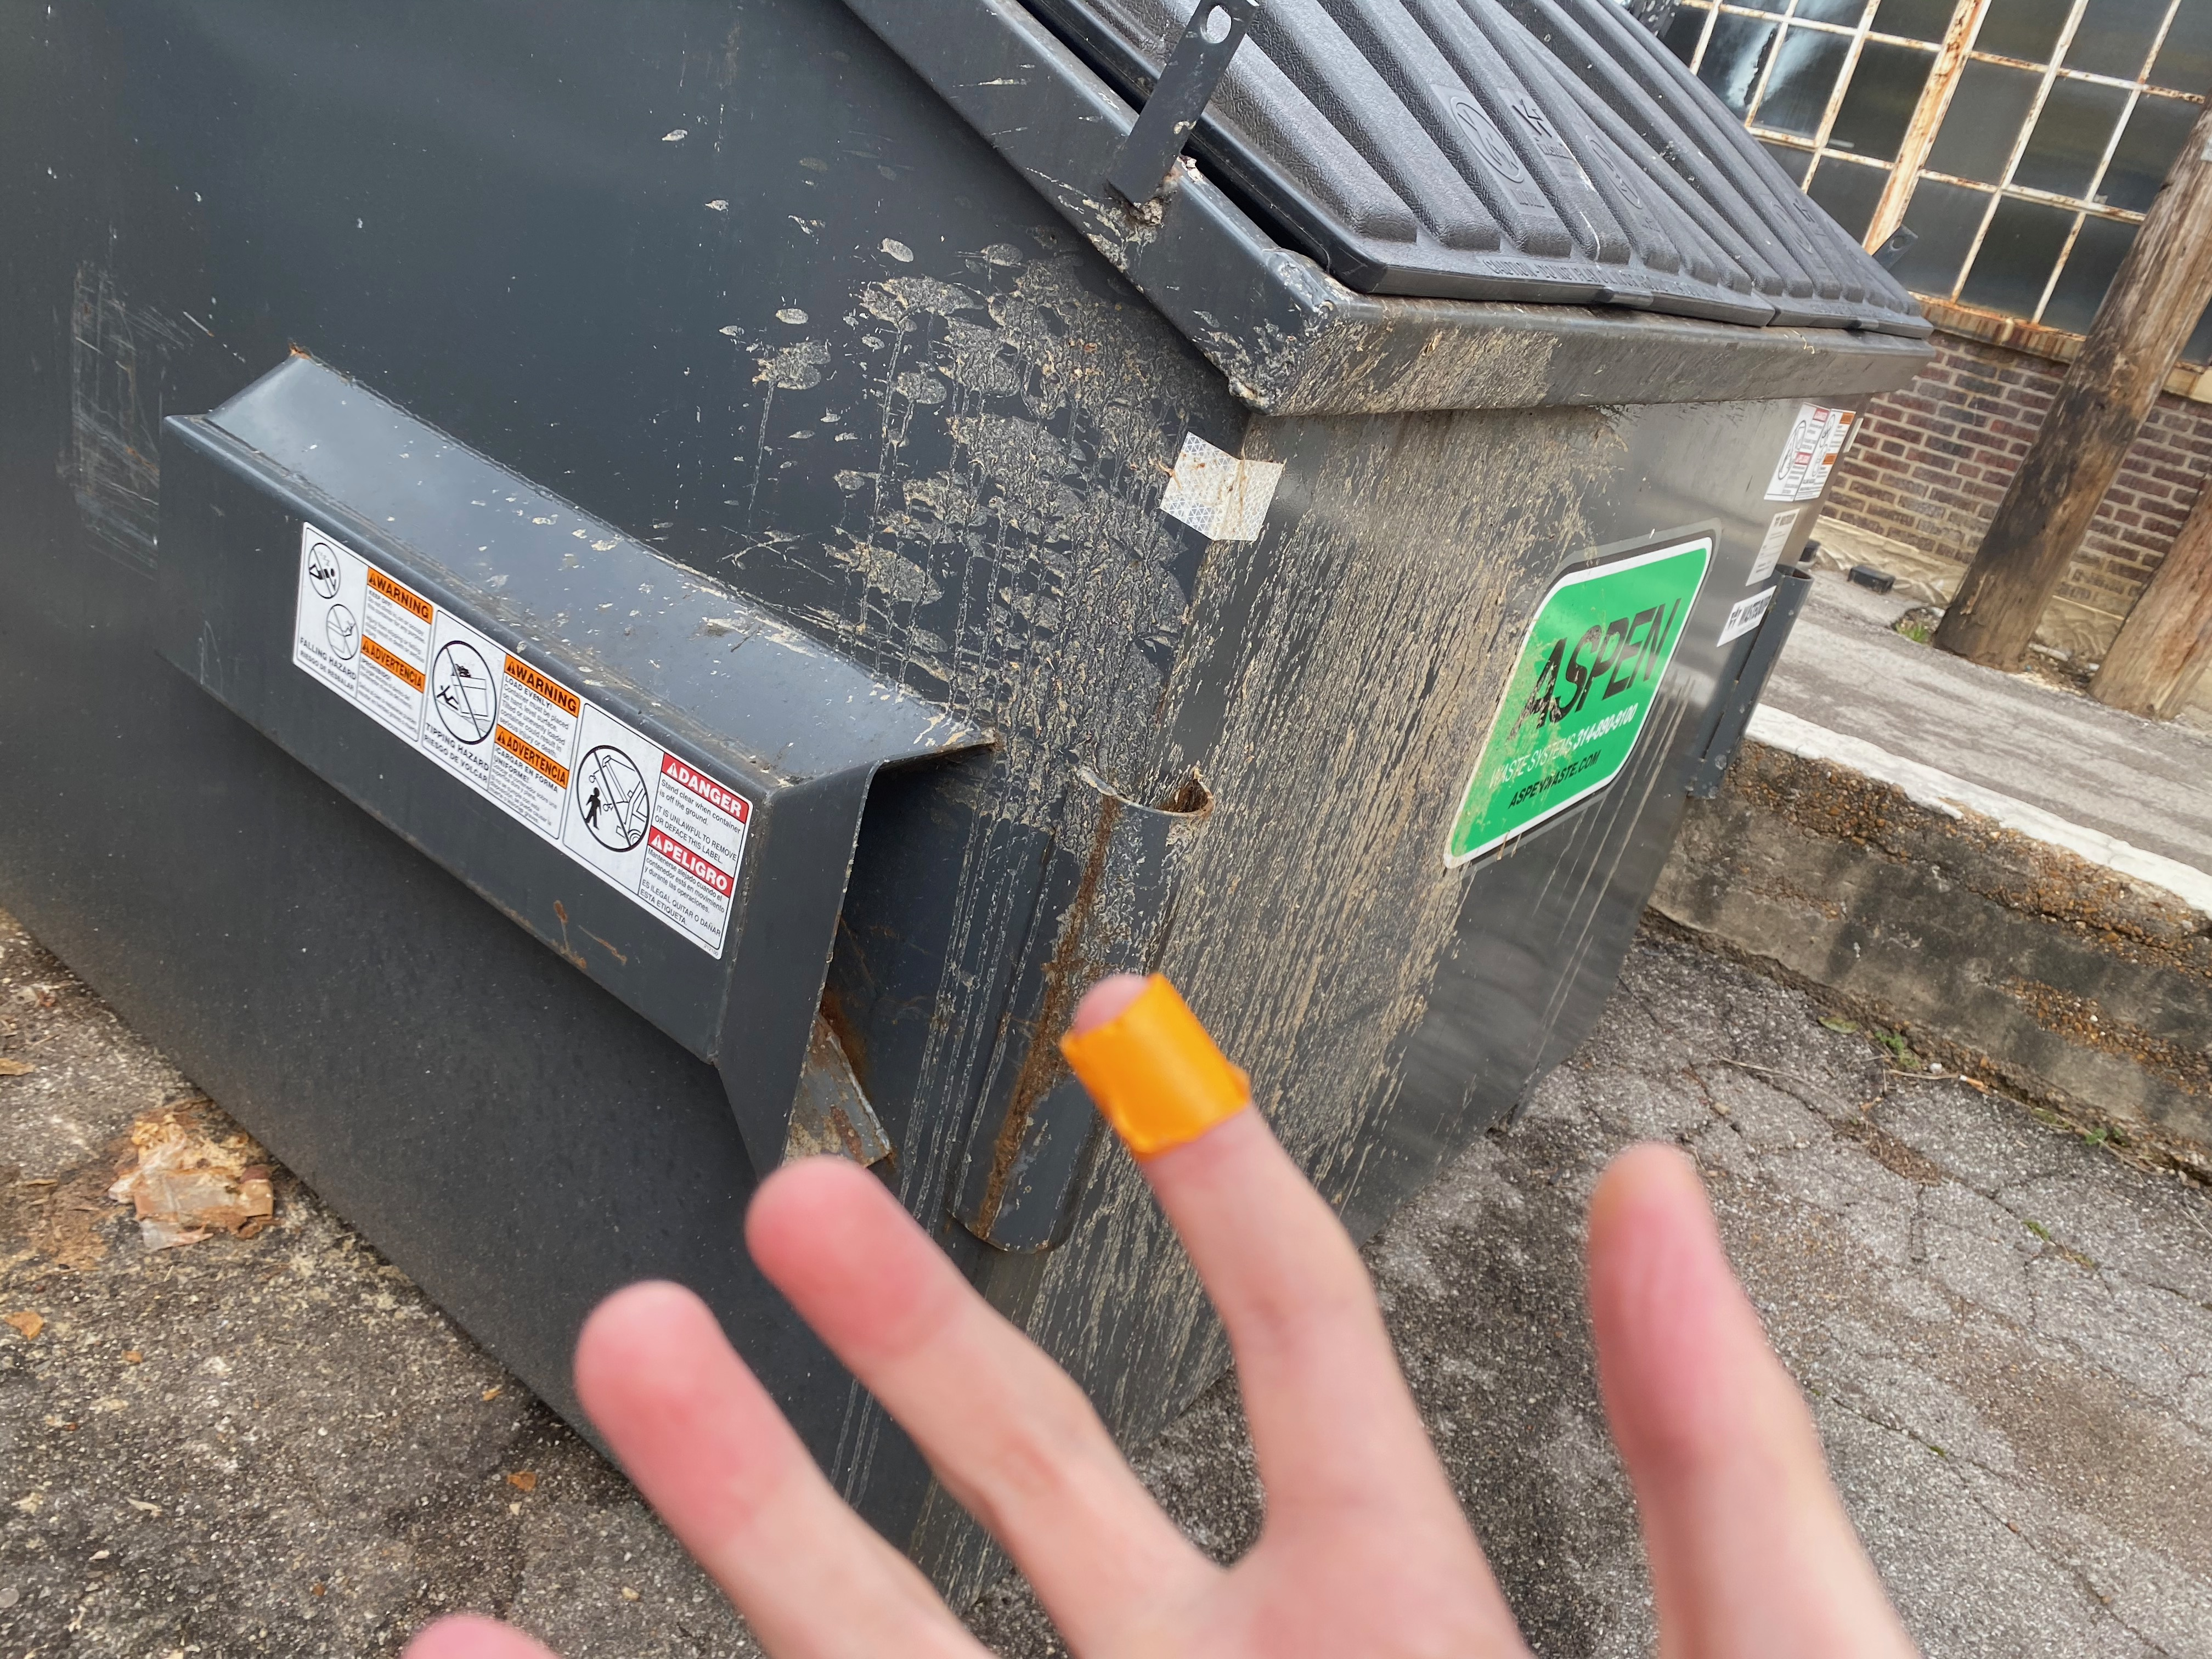fingertip: (1036, 964, 1266, 1152)
